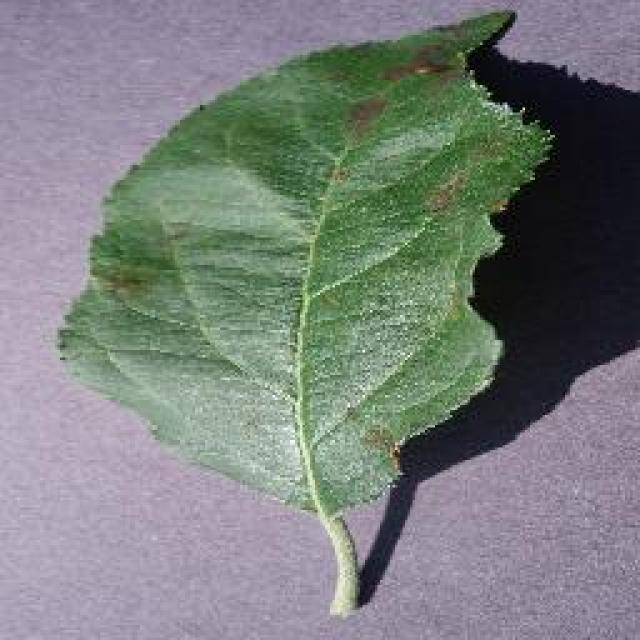apple scab disease: (55, 5, 555, 617)
